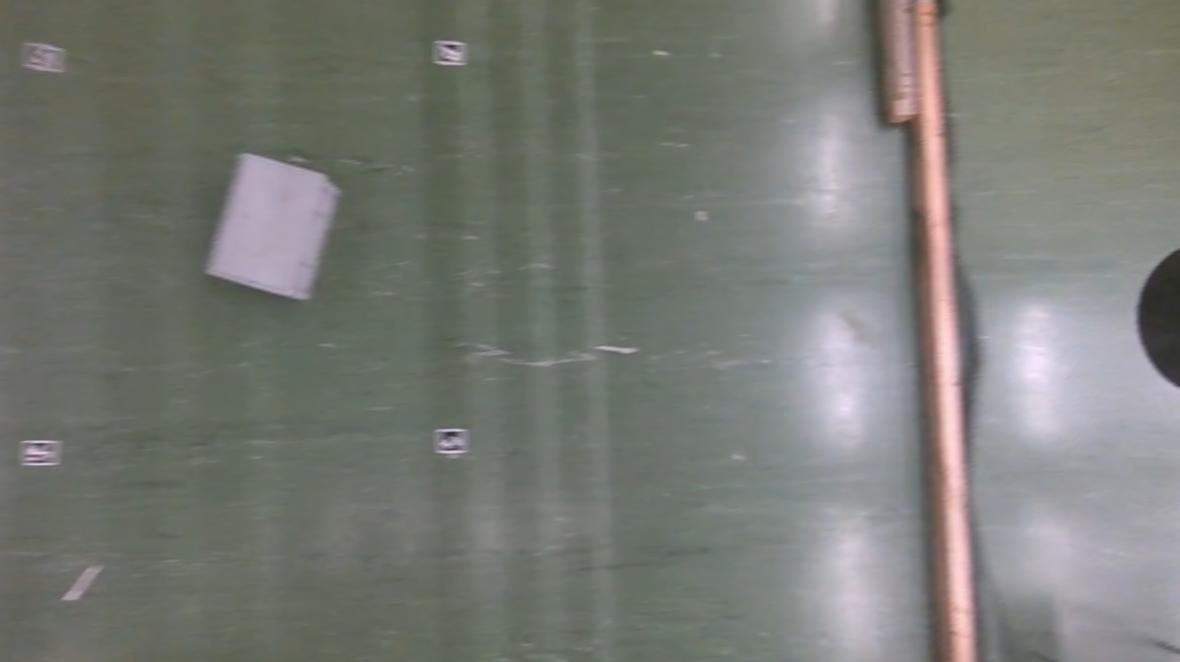probes: (54, 554, 109, 604), (587, 337, 651, 368)
rako: (204, 153, 341, 302)
